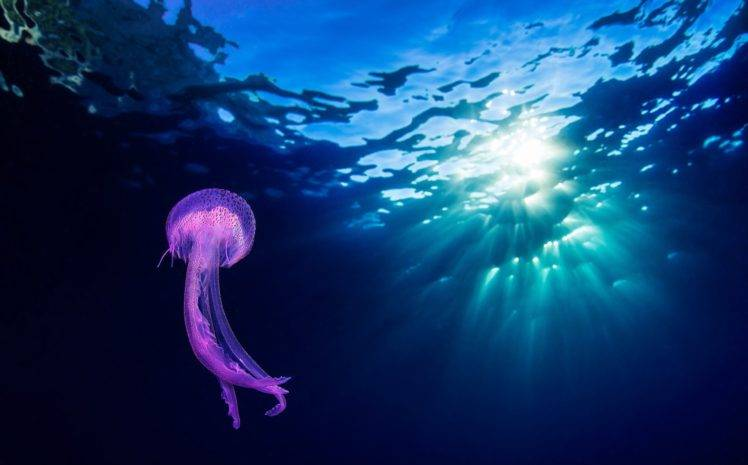jellyfish: (152, 180, 306, 432)
